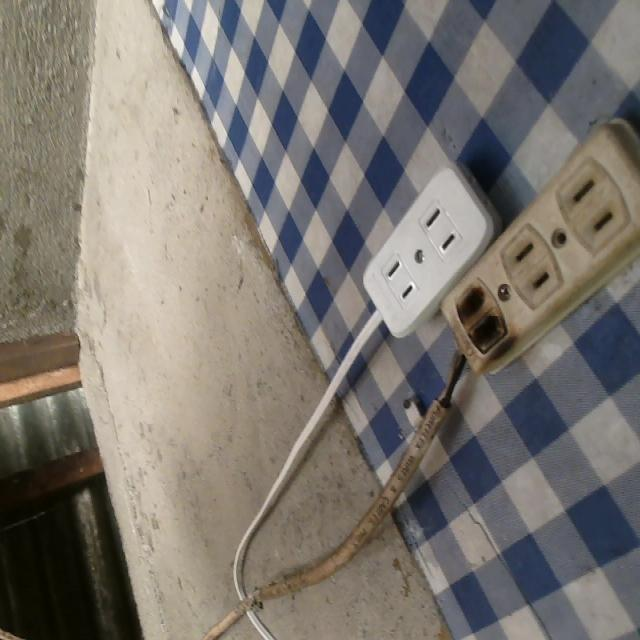-: (452, 278, 516, 366)
